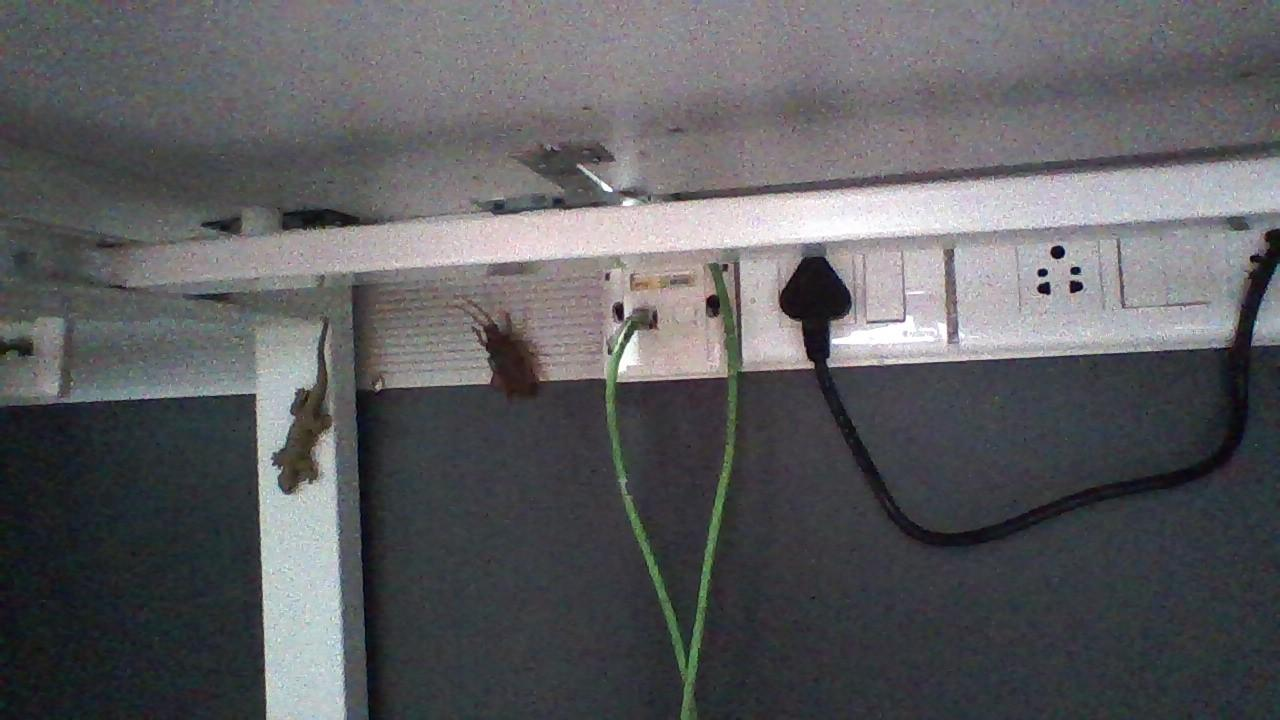cockroach: (429, 292, 554, 409)
lizard: (276, 312, 338, 504)
